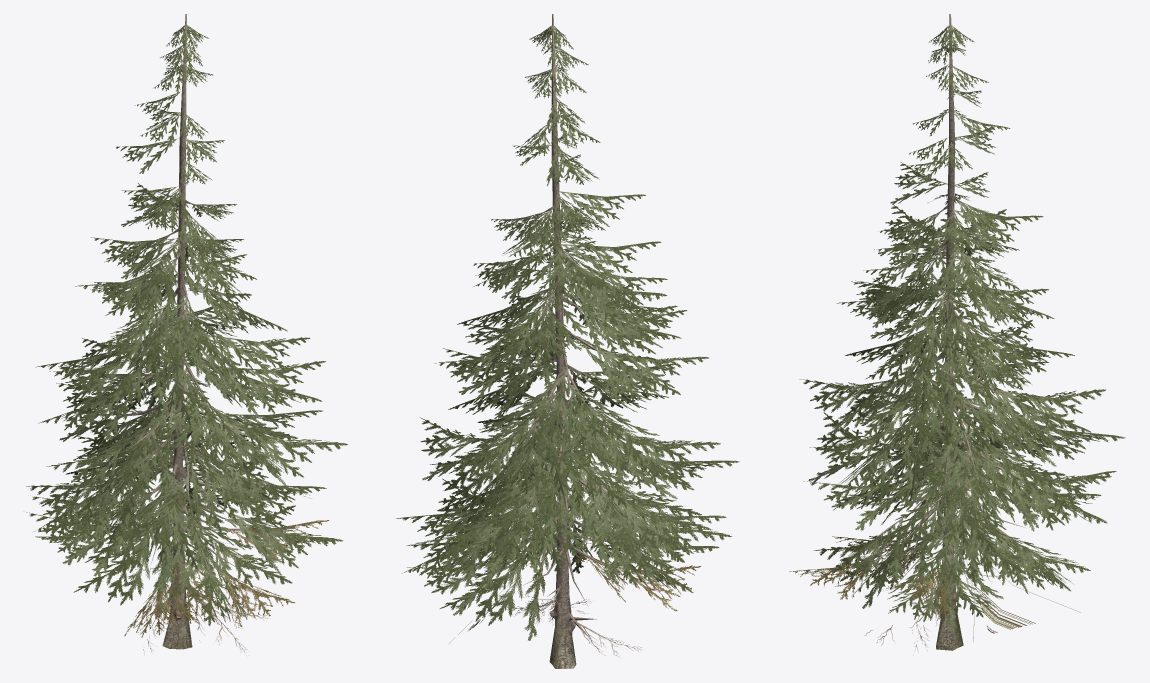
The model's file is Spruce5.fbx.
3 renders of one model, left to right at view 1: azimuth 30°, elevation 25°; view 2: azimuth 150°, elevation 25°; view 3: azimuth 270°, elevation 25°, orthographic. The views are drawn at different scales.
Visible parts, largest first — view 1: spruce 2_1, spruce 1_0; view 2: spruce 2_1, spruce 1_0; view 3: spruce 2_1, spruce 1_0.
Boxes of the visible parts, x1,y1,x2,y2 form: spruce 2_1: (26,25,347,654); spruce 1_0: (104,14,249,649); spruce 2_1: (396,25,739,656); spruce 1_0: (480,14,634,668); spruce 2_1: (789,25,1125,652); spruce 1_0: (879,14,1025,650).
Size of the model in its own units: 546 by 1049 by 534.
Materials: 2 (2 with a texture image).
